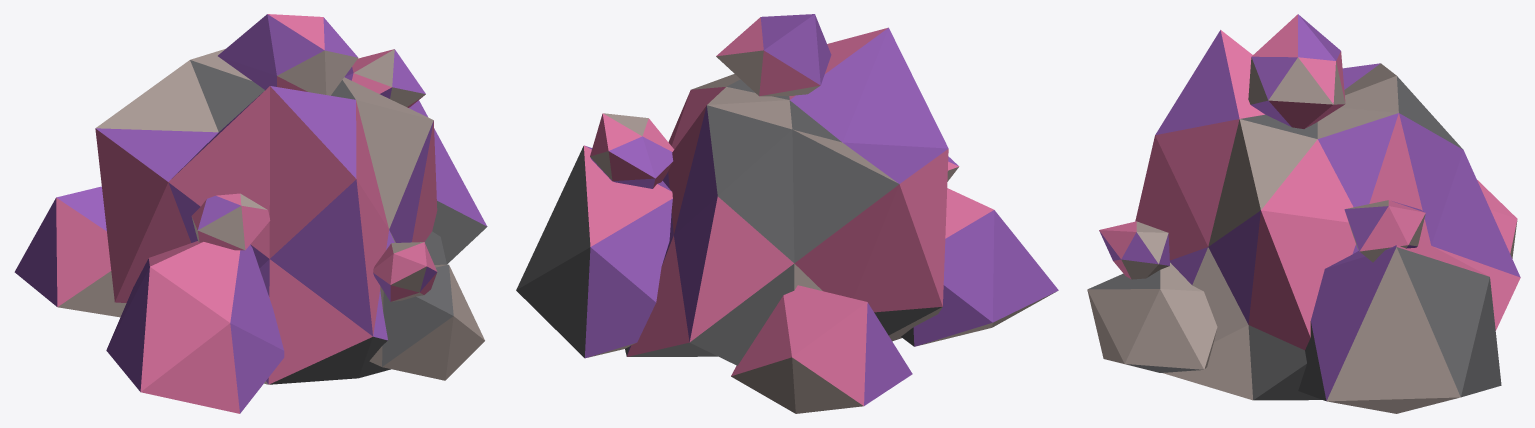
The model's file is rare_earths_c.glb.
The picture shows the model from 3 angles, left to right: view 1: azimuth 30°, elevation 25°; view 2: azimuth 150°, elevation 25°; view 3: azimuth 270°, elevation 25°; orthographic projection. The views are drawn at different scales.
Parts seen in each view (by area): view 1: rare_earths_c; view 2: rare_earths_c; view 3: rare_earths_c.
Part boxes in pixels (x1=…): rare_earths_c: x1=14, y1=14, x2=487, y2=413; rare_earths_c: x1=516, y1=14, x2=1058, y2=413; rare_earths_c: x1=1087, y1=14, x2=1520, y2=413.
Size of the model in its own units: 1.22 by 0.8606 by 1.1.
